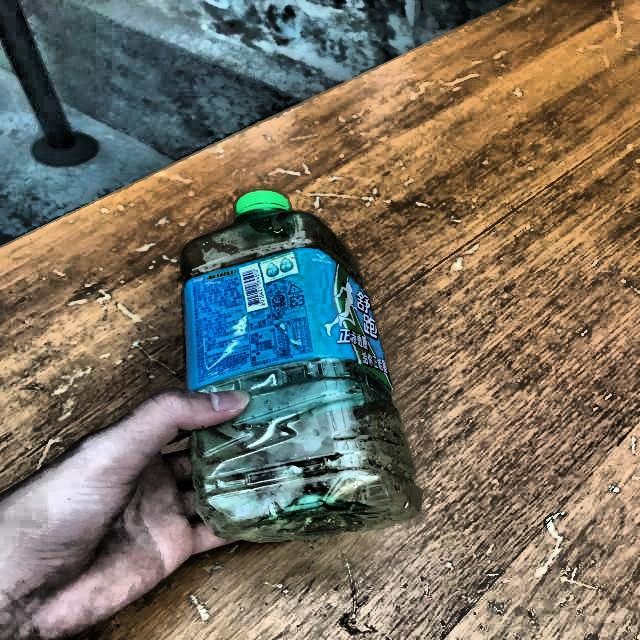plastic bottle: (181, 191, 422, 542)
